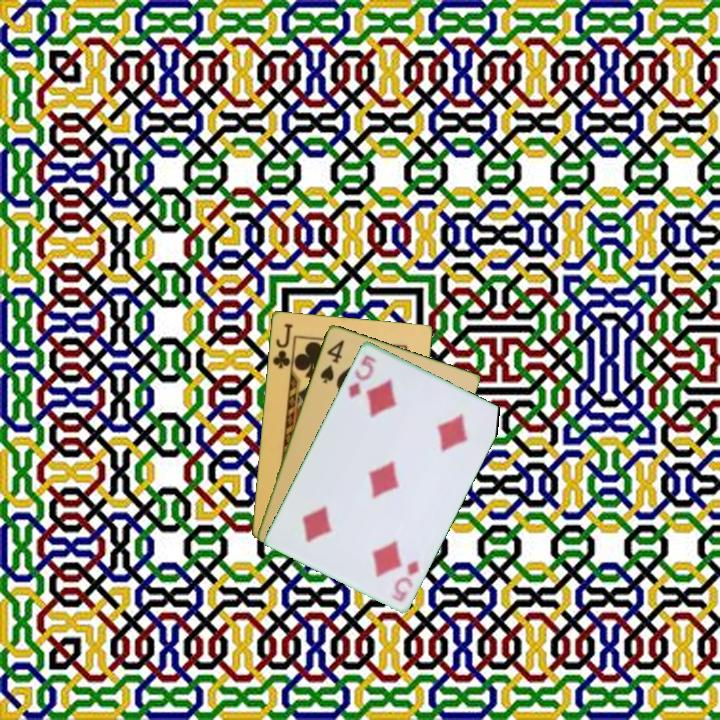4s: (316, 336, 347, 386)
5d: (345, 351, 380, 402), (388, 556, 422, 604)
Jc: (269, 319, 295, 371)
